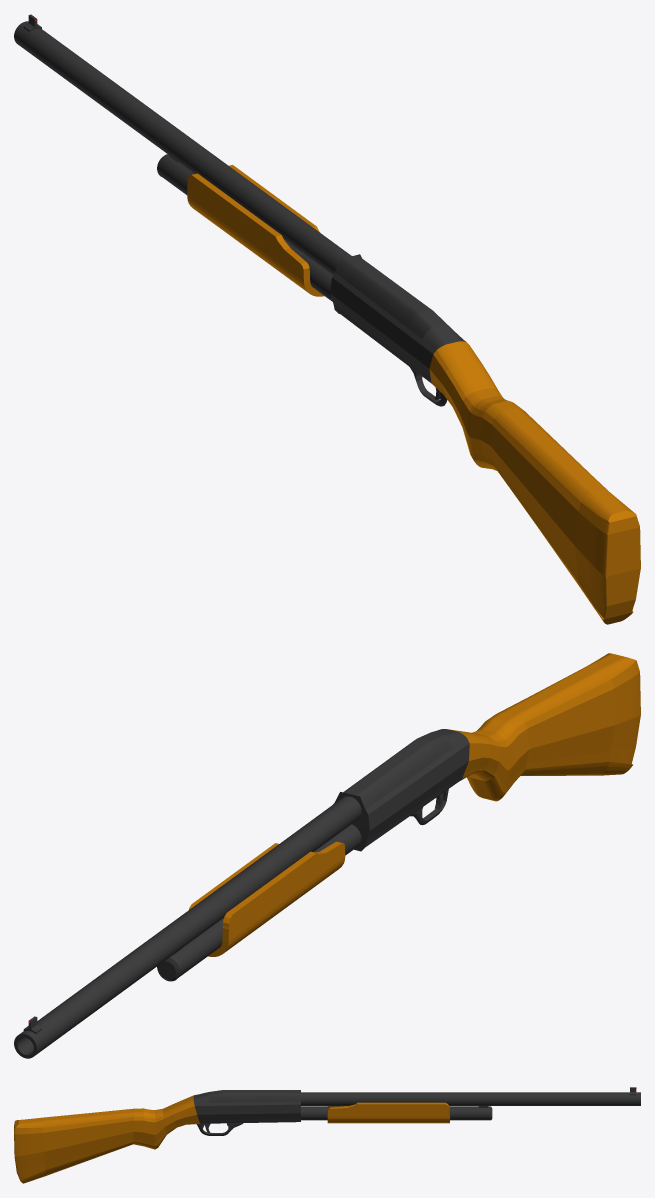
Rendered from pump.glb.
3 views of the same model, one above another, from view 1: azimuth 30°, elevation 25°; view 2: azimuth 150°, elevation 25°; view 3: azimuth 270°, elevation 25° (orthographic). The views are drawn at different scales.
Parts seen in each view (by area): view 1: Back, Barrel, Forend, Magazine; view 2: Back, Barrel, Forend, Magazine; view 3: Back, Barrel, Forend, Magazine, Trigger Guard.
Part boxes in pixels (x1,y1,x2,y2): Back: (330,254,640,624); Barrel: (14,21,351,274); Forend: (187,165,324,296); Magazine: (157,154,332,301); Back: (333,653,640,851); Barrel: (14,796,361,1058); Forend: (189,841,345,956); Magazine: (157,824,361,981); Back: (14,1090,300,1183); Barrel: (301,1092,640,1105); Forend: (327,1102,449,1123); Magazine: (301,1106,492,1120); Trigger Guard: (196,1123,243,1135).
Bounding box in the file's own units: 0.19 × 0.7899 × 4.76.
